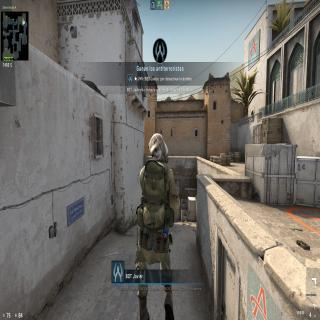CT-Head: (148, 129, 170, 165)
